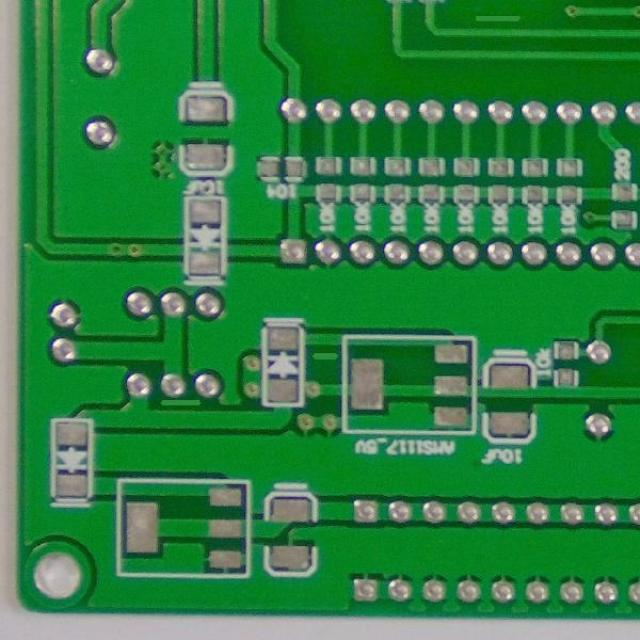spurious_copper: (469, 7, 528, 30), (158, 391, 208, 415), (310, 342, 340, 372)
